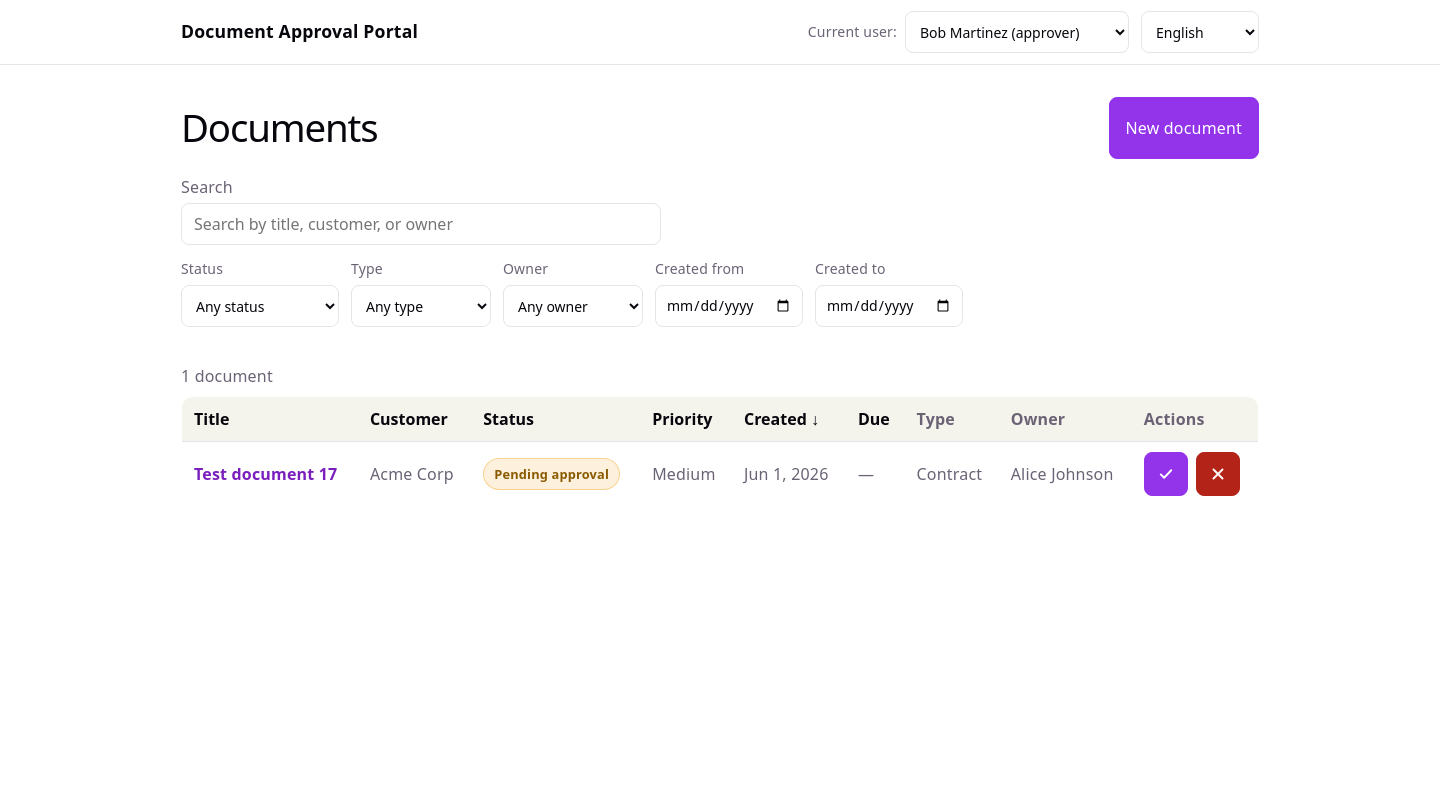
document list › lets an assigned approver approve directly from the list
Click the button named "Approve" at (1166,474), box [1144,452,1188,496]
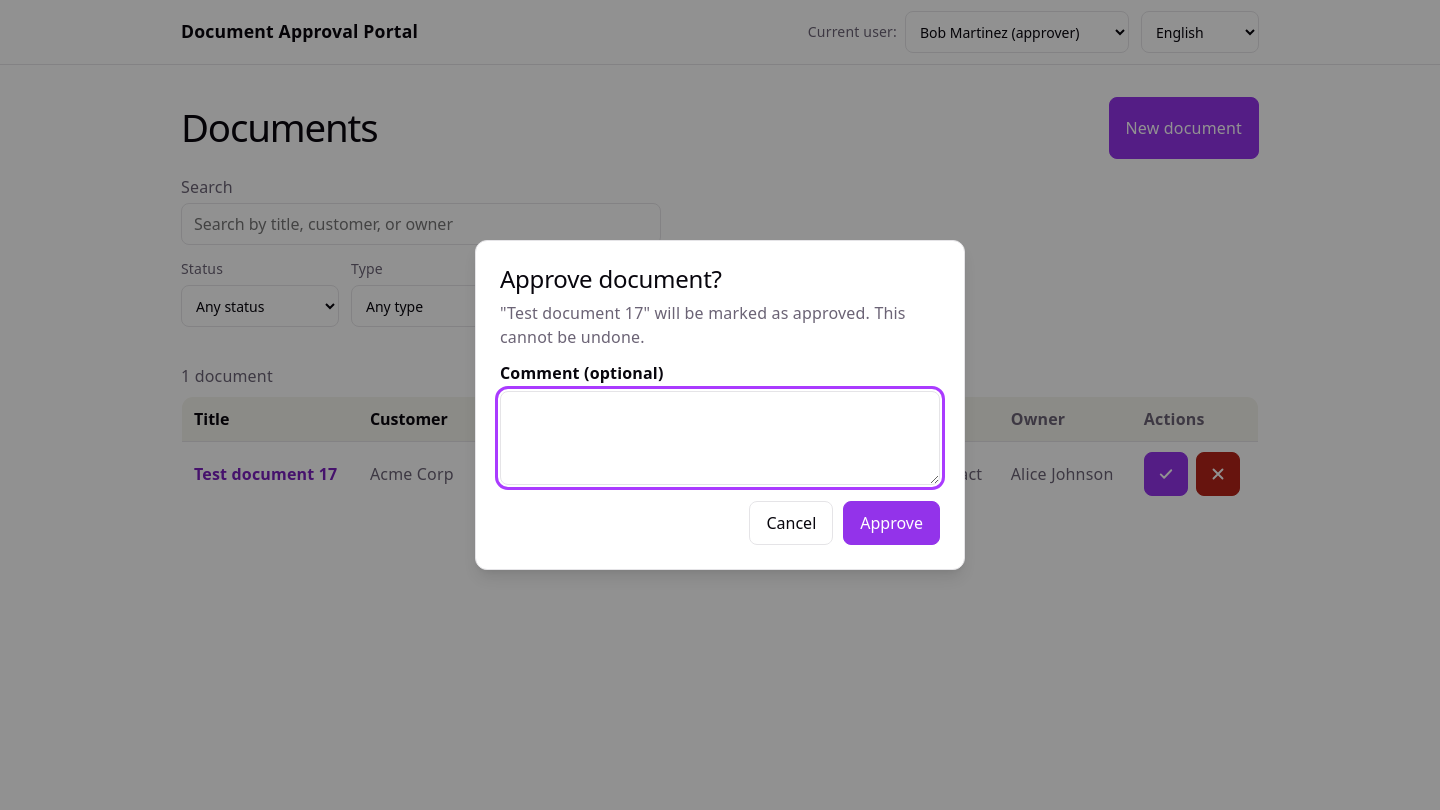
Click the button "Approve" at (892,523), box [843,501,940,545]
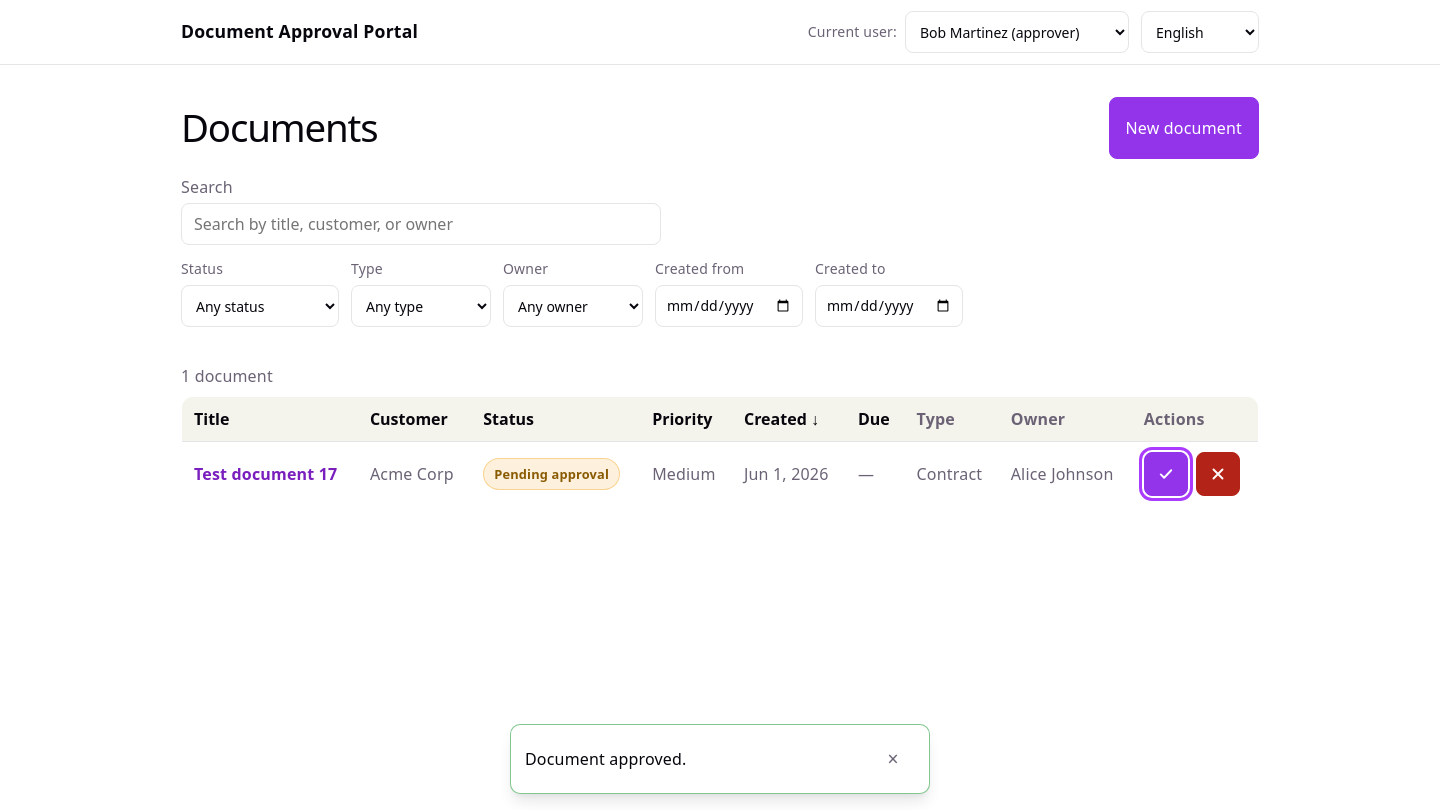
Result: the text "Document approved." is shown at [525,747,687,771]
